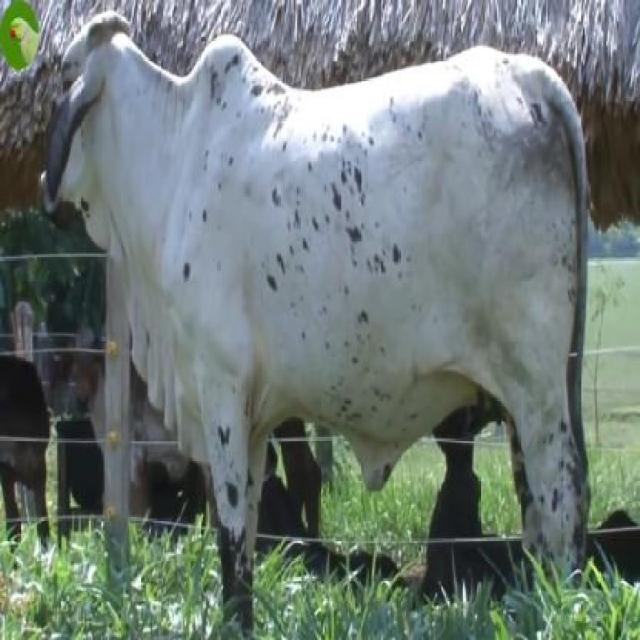Cow: (37, 12, 588, 623)
